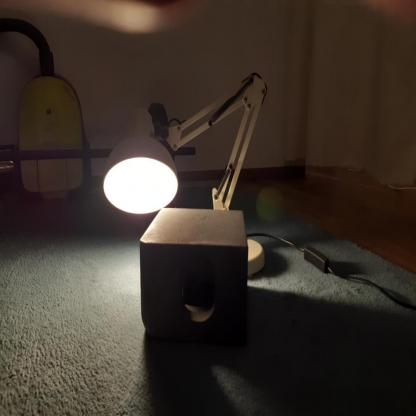CornerCasting: (135, 205, 248, 339)
